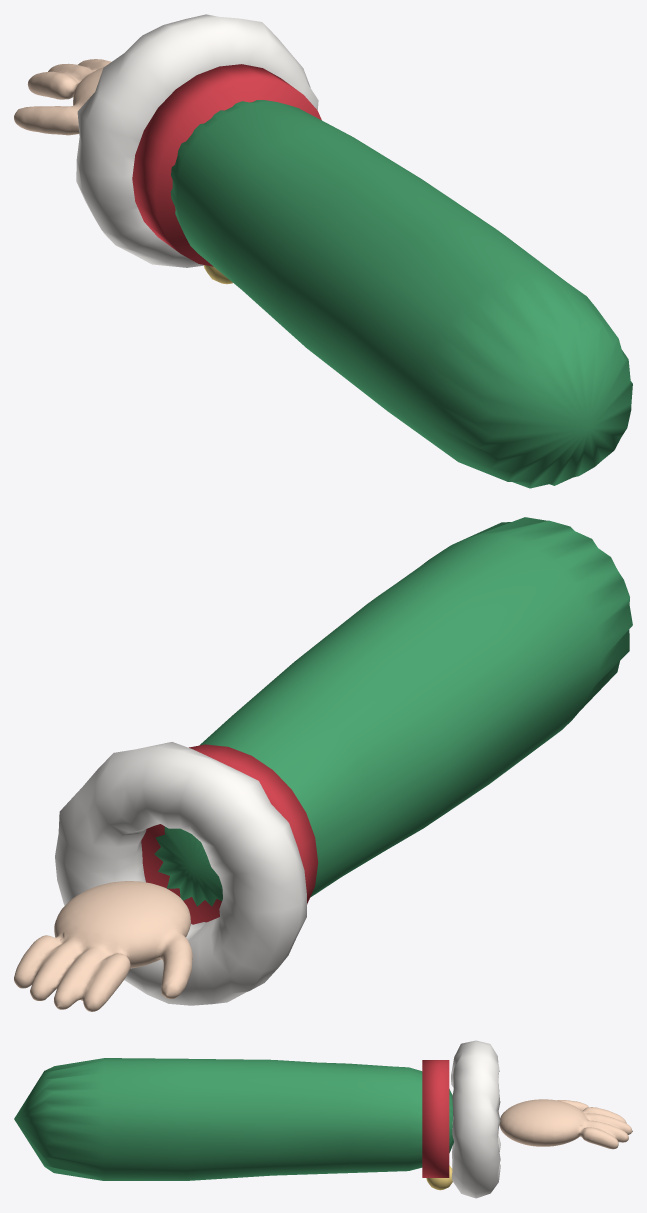
The model's file is arm.glb.
The picture shows the model from 3 angles, top to bottom: view 1: azimuth 30°, elevation 25°; view 2: azimuth 150°, elevation 25°; view 3: azimuth 270°, elevation 25°; orthographic projection. The views are drawn at different scales.
Parts seen in each view (by area): view 1: ElfArm; view 2: ElfArm; view 3: ElfArm.
Boxes of the visible parts, x1,y1,x2,y2 form: ElfArm: (14,14,632,488); ElfArm: (14,517,632,1011); ElfArm: (14,1040,632,1198).
Size of the model in its own units: 0.1774 by 0.1744 by 0.6897.
